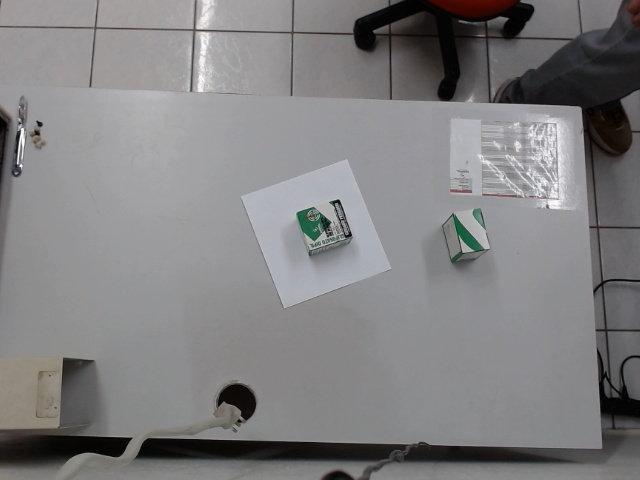divisor: (237, 157, 392, 310)
item: (297, 198, 353, 260), (437, 205, 491, 265)
